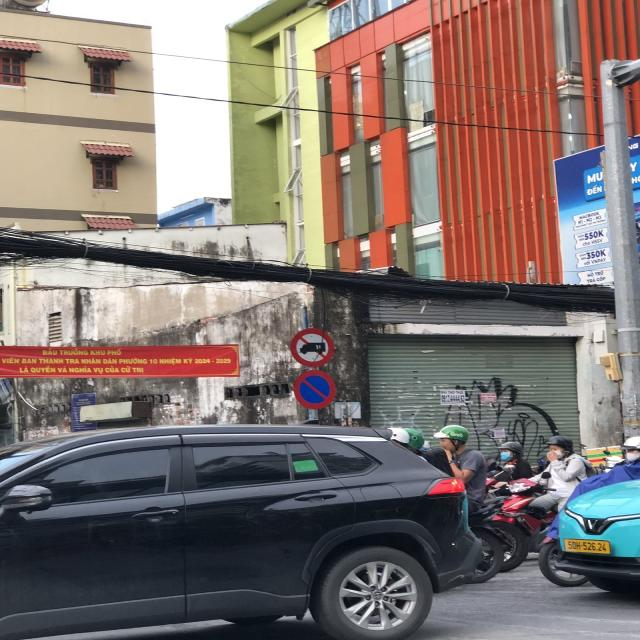Bien bao cam do xe: (292, 369, 339, 410)
Bien bao cam xe oto tai: (288, 326, 336, 367)
